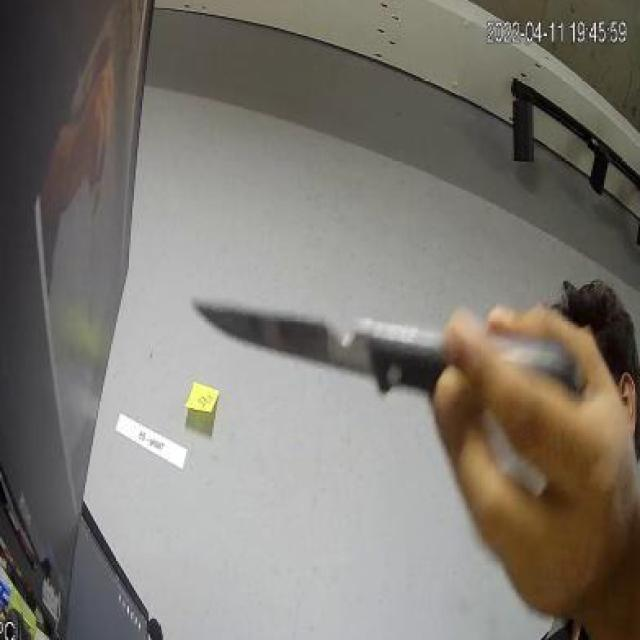Knife: (180, 280, 585, 433)
